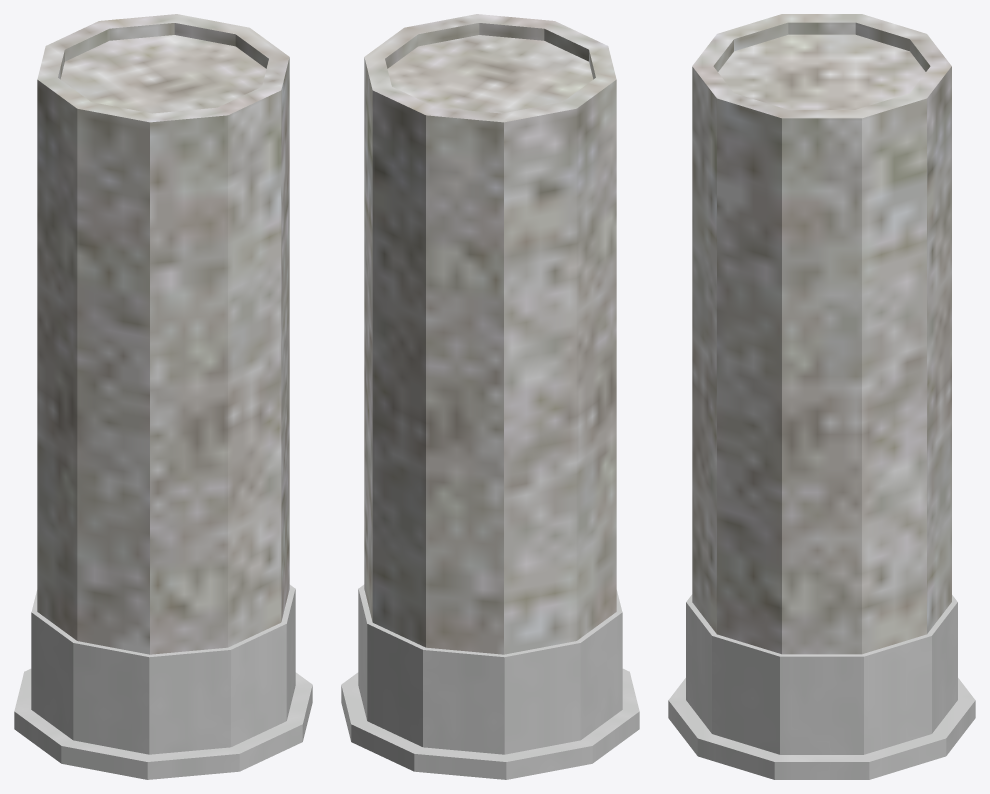
File: Buckshot.fbx
3 views of the same model, side by side, from view 1: azimuth 30°, elevation 25°; view 2: azimuth 150°, elevation 25°; view 3: azimuth 270°, elevation 25° (orthographic).
Visible parts, largest first — view 1: Casing1, Bullet1; view 2: Casing1, Bullet1; view 3: Casing1, Bullet1.
Part boxes in pixels (x1=…): Casing1: x1=37, y1=14, x2=289, y2=654; Bullet1: x1=14, y1=584, x2=312, y2=779; Casing1: x1=364, y1=14, x2=616, y2=654; Bullet1: x1=341, y1=584, x2=639, y2=779; Casing1: x1=692, y1=14, x2=951, y2=654; Bullet1: x1=668, y1=594, x2=975, y2=779.
Bounding box in the file's own units: 17.83 × 43.92 × 18.75.
